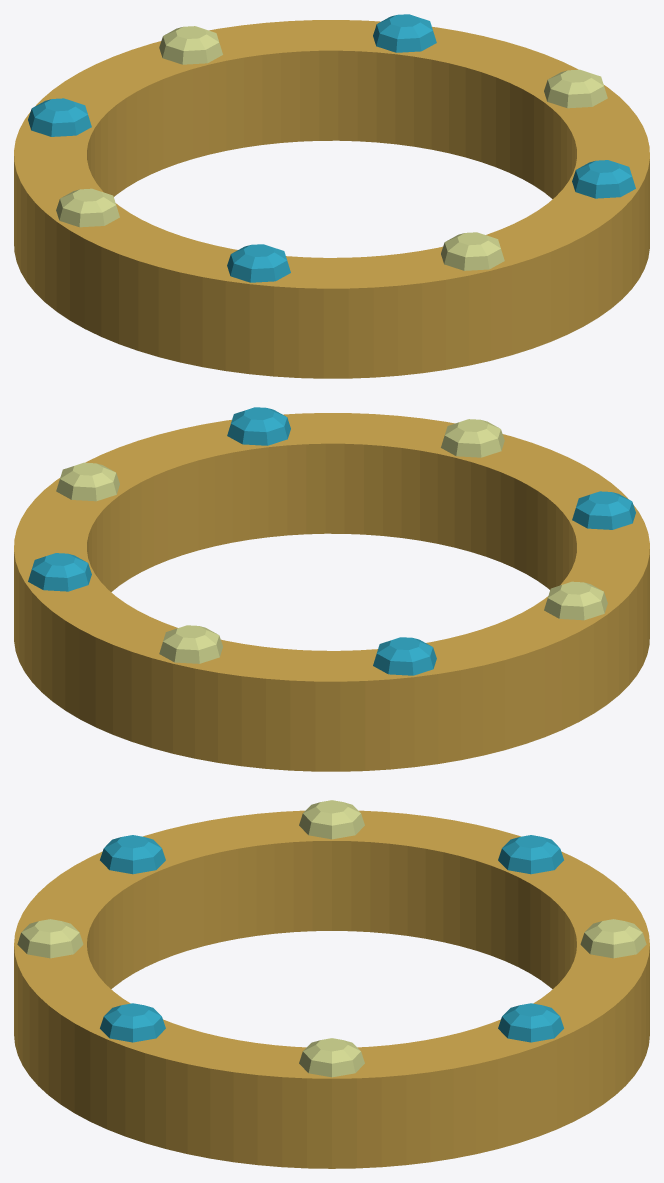
3 views of the same model, one above another, from view 1: azimuth 30°, elevation 25°; view 2: azimuth 150°, elevation 25°; view 3: azimuth 270°, elevation 25° (orthographic).
Parts seen in each view (by area): view 1: TI021 / broad 24ct ring, TI021 / set ultropaz alexandrite.005, TI021 / set ultropaz alexandrite.002, TI021 / set ultropaz alexandrite.003, TI021 / set ultropaz alexandrite.001, TI021 / set ultropaz alexandrite, TI021 / set ultropaz alexandrite.004, TI021 / set ultropaz alexandrite.007, TI021 / set ultropaz alexandrite.006; view 2: TI021 / broad 24ct ring, TI021 / set ultropaz alexandrite.003, TI021 / set ultropaz alexandrite.006, TI021 / set ultropaz alexandrite.005, TI021 / set ultropaz alexandrite.007, TI021 / set ultropaz alexandrite, TI021 / set ultropaz alexandrite.001, TI021 / set ultropaz alexandrite.004, TI021 / set ultropaz alexandrite.002; view 3: TI021 / broad 24ct ring, TI021 / set ultropaz alexandrite, TI021 / set ultropaz alexandrite.004, TI021 / set ultropaz alexandrite.001, TI021 / set ultropaz alexandrite.007, TI021 / set ultropaz alexandrite.003, TI021 / set ultropaz alexandrite.005, TI021 / set ultropaz alexandrite.002, TI021 / set ultropaz alexandrite.006.
Part boxes in pixels (x1,y1,x2,y2): TI021 / broad 24ct ring: (14,20,649,378); TI021 / set ultropaz alexandrite.005: (227,244,290,282); TI021 / set ultropaz alexandrite.002: (159,26,222,64); TI021 / set ultropaz alexandrite.003: (28,98,91,136); TI021 / set ultropaz alexandrite.001: (373,14,436,52); TI021 / set ultropaz alexandrite: (544,69,607,108); TI021 / set ultropaz alexandrite.004: (56,188,119,227); TI021 / set ultropaz alexandrite.007: (572,160,635,198); TI021 / set ultropaz alexandrite.006: (441,232,504,270); TI021 / broad 24ct ring: (14,413,649,771); TI021 / set ultropaz alexandrite.003: (373,637,436,675); TI021 / set ultropaz alexandrite.006: (441,419,504,457); TI021 / set ultropaz alexandrite.005: (572,491,635,529); TI021 / set ultropaz alexandrite.007: (227,407,290,445); TI021 / set ultropaz alexandrite: (56,462,119,501); TI021 / set ultropaz alexandrite.001: (28,553,91,591); TI021 / set ultropaz alexandrite.004: (544,581,607,620); TI021 / set ultropaz alexandrite.002: (159,625,222,663); TI021 / broad 24ct ring: (14,810,649,1168); TI021 / set ultropaz alexandrite: (299,1038,364,1077); TI021 / set ultropaz alexandrite.004: (299,800,364,839); TI021 / set ultropaz alexandrite.001: (498,1003,563,1042); TI021 / set ultropaz alexandrite.007: (100,1003,165,1042); TI021 / set ultropaz alexandrite.003: (498,835,563,874); TI021 / set ultropaz alexandrite.005: (100,835,165,874); TI021 / set ultropaz alexandrite.002: (580,919,646,958); TI021 / set ultropaz alexandrite.006: (17,919,83,958).
Bounding box in the file's own units: 1.92 × 0.362 × 1.92.
